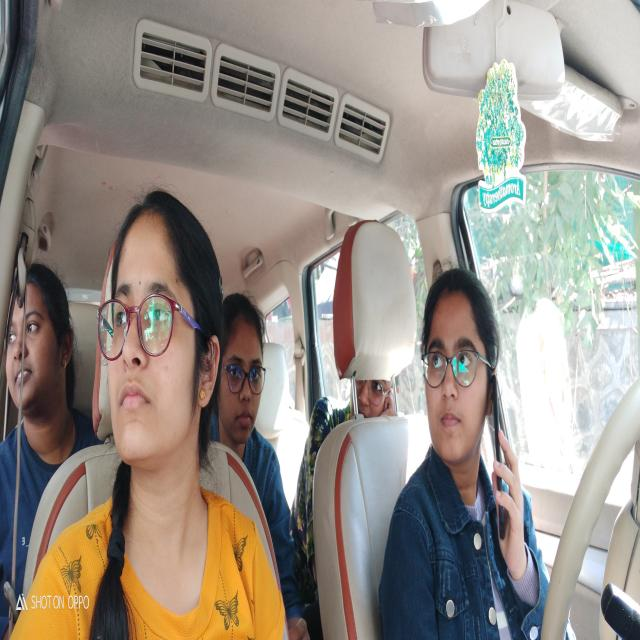mobile: (488, 373, 516, 542)
person: (99, 183, 223, 492), (420, 269, 498, 481), (6, 264, 78, 442), (221, 290, 273, 448), (348, 378, 392, 418)
